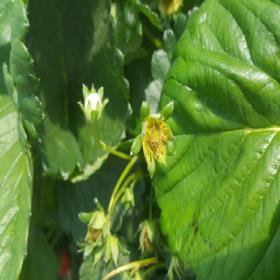Blossom Blight: (140, 114, 172, 164)
